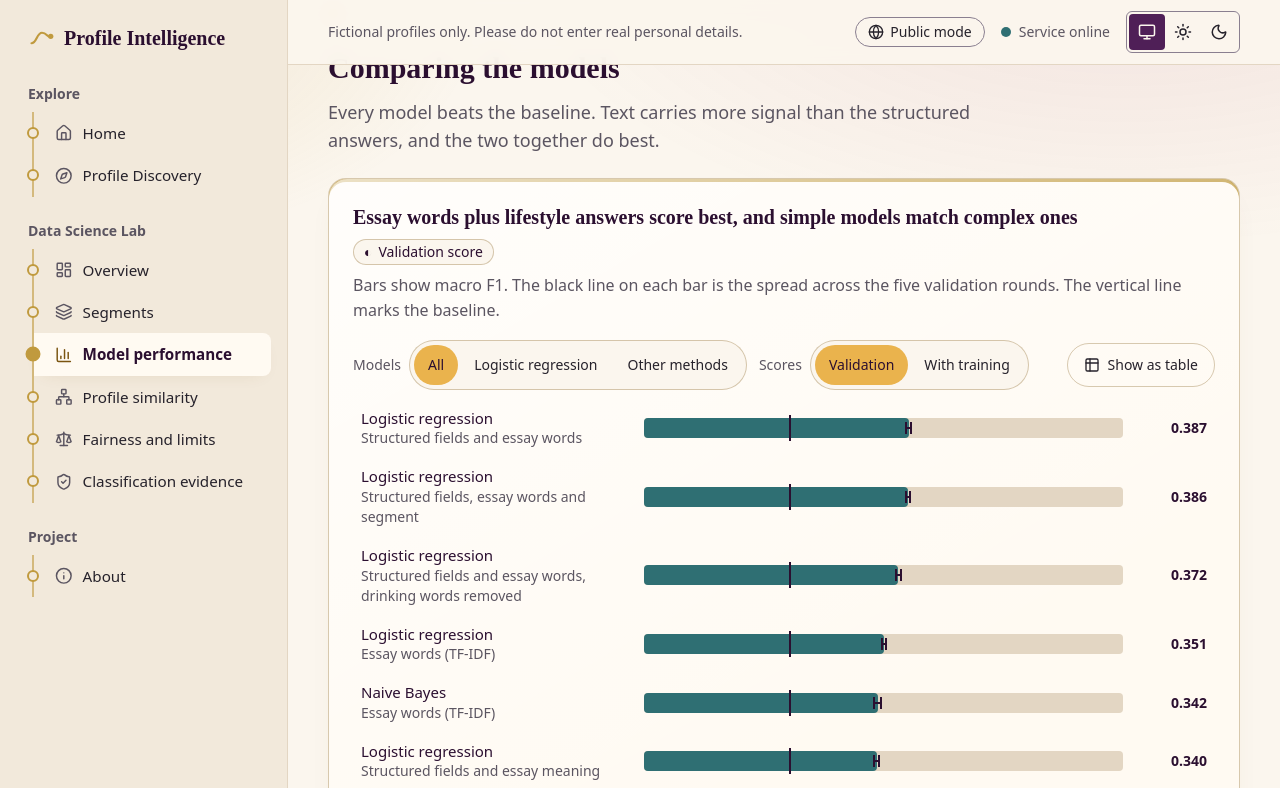
Scenario: chart data › pressing a bar reads out its meaning
(page scrolled)
Click the button "Logistic regression Structured fields and essay words 0.387" at (784, 428), box x1=353 y1=402 x2=1215 y2=454
(page scrolled)
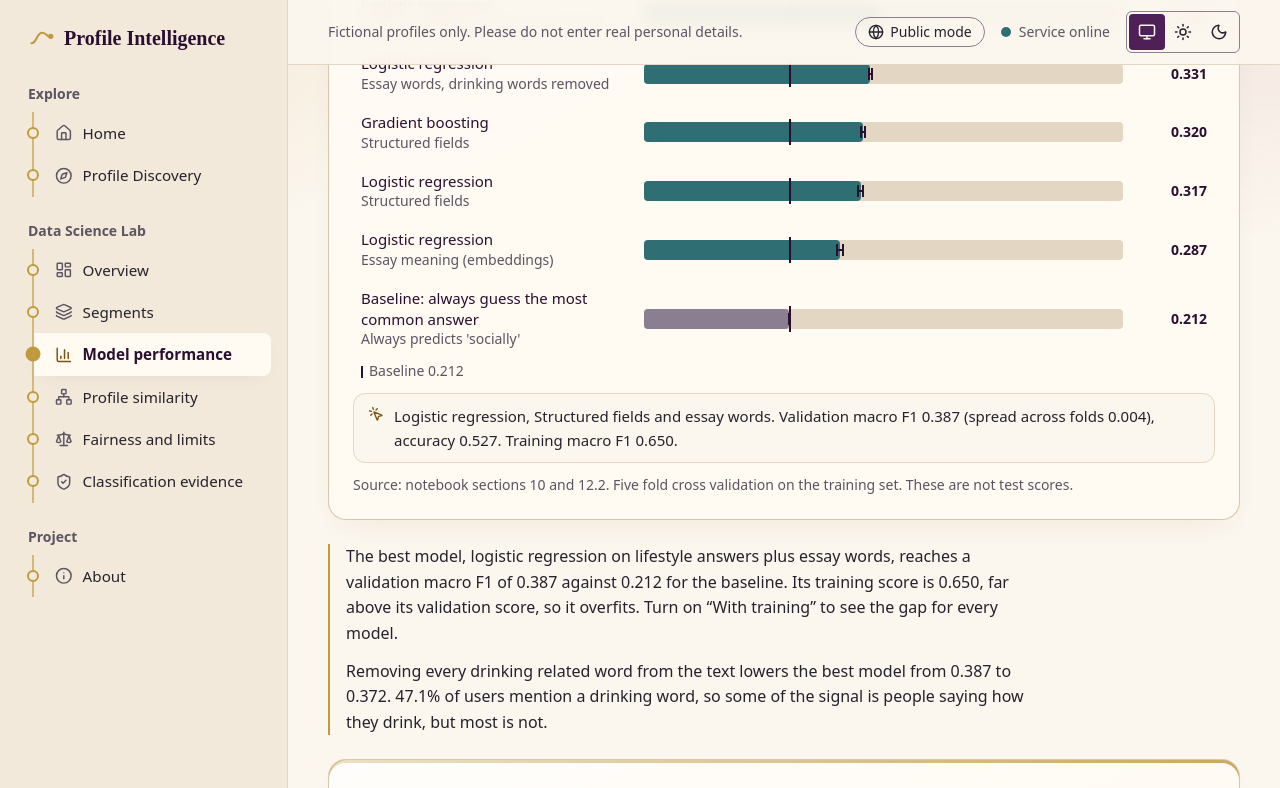
Now the text "Validation macro F1 0.387 (spread across folds 0.004)" is shown, box x1=394 y1=406 x2=1155 y2=450
